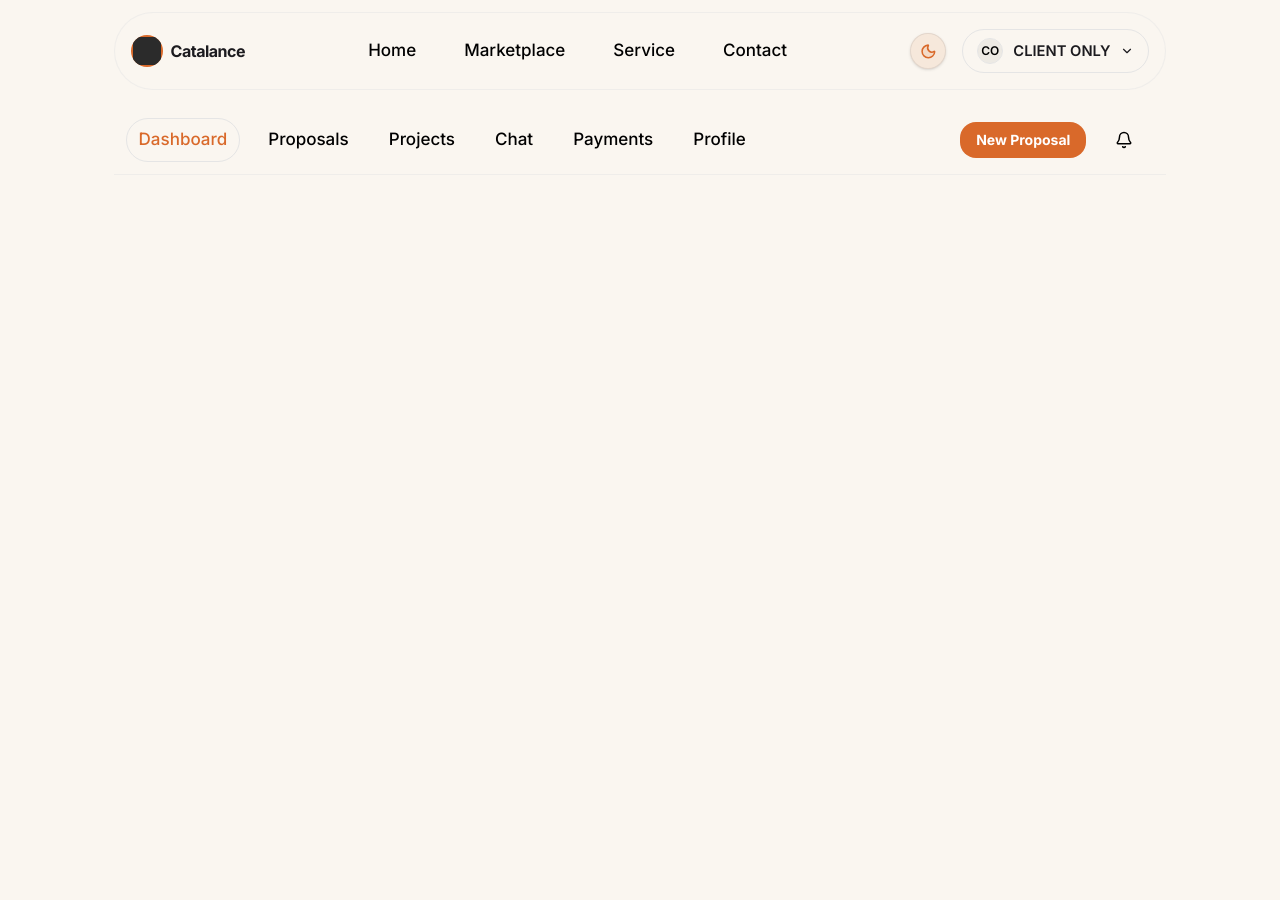
Test case: workspace header dashboard switching › shows 'Switch to Freelancer' for client-only accounts
Click the button "CO CLIENT ONLY". click: click(1056, 51)
box: x1=962 y1=29 x2=1149 y2=73
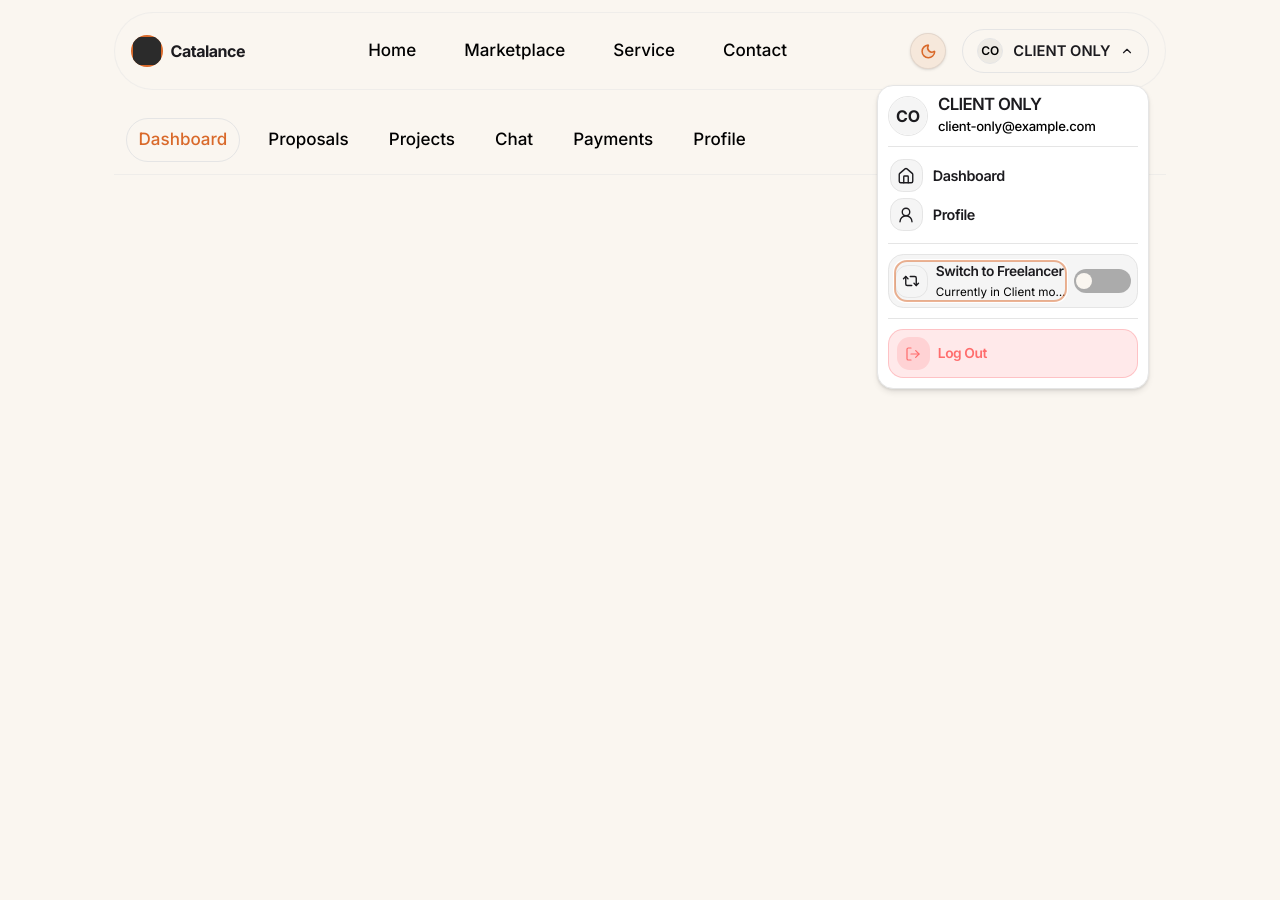
Expected: the text "Switch to Freelancer" is shown, x1=936 y1=261 x2=1066 y2=282
Expected: the text "Currently in Client mode" is shown, x1=936 y1=284 x2=1066 y2=301
